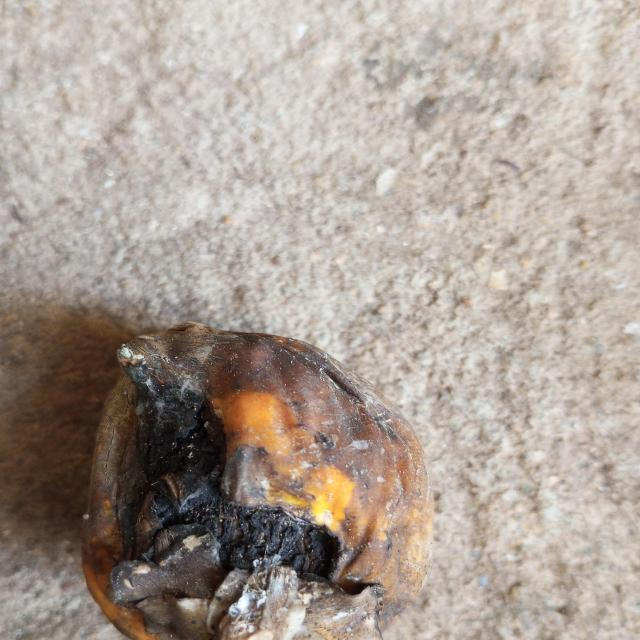damaged: (81, 323, 433, 640)
